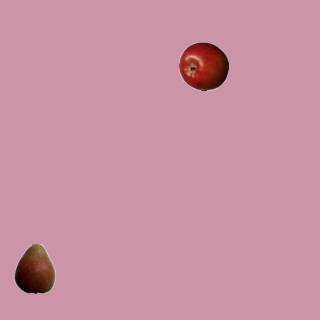Apple Braeburn: (178, 41, 228, 91)
Pear Forelle: (9, 243, 59, 293)
